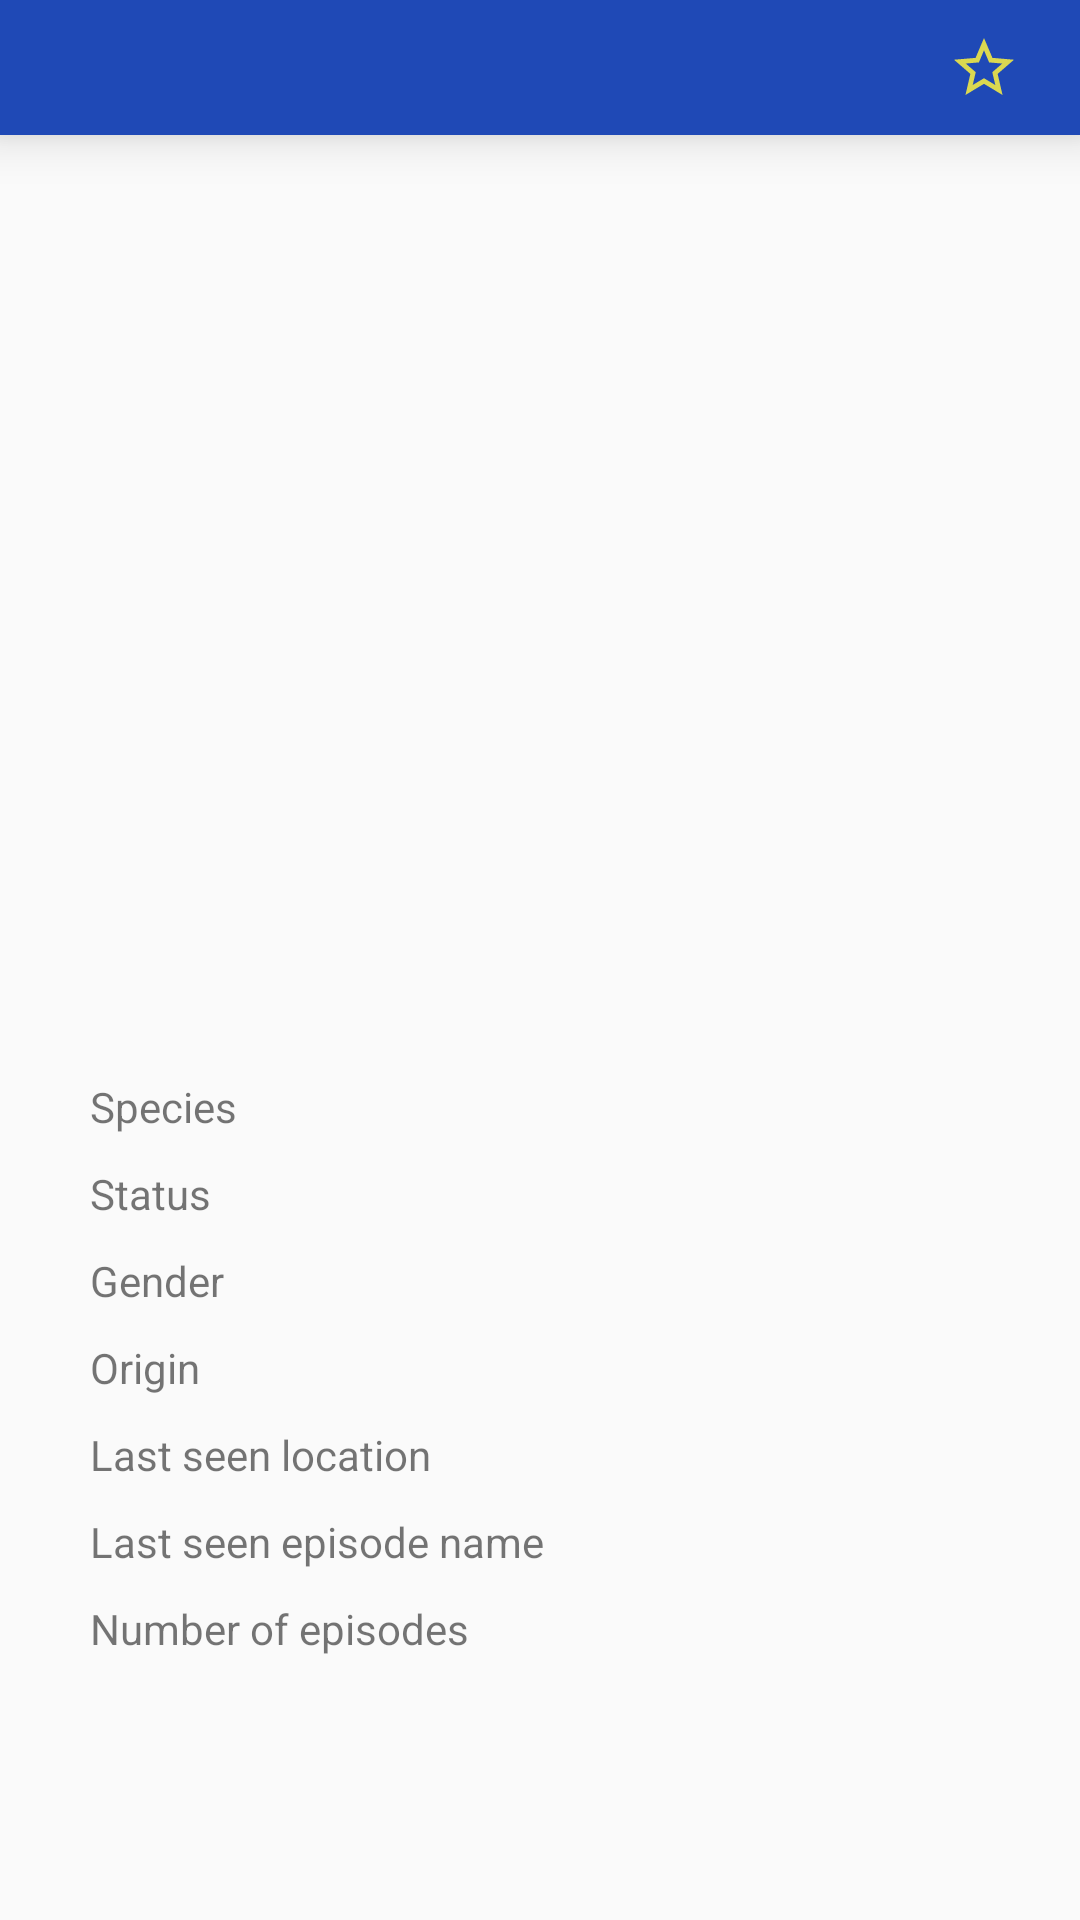

Where to tap for icons on this 1080px×1920px app screen, as point (x, y):
favorite: point (984, 66)
